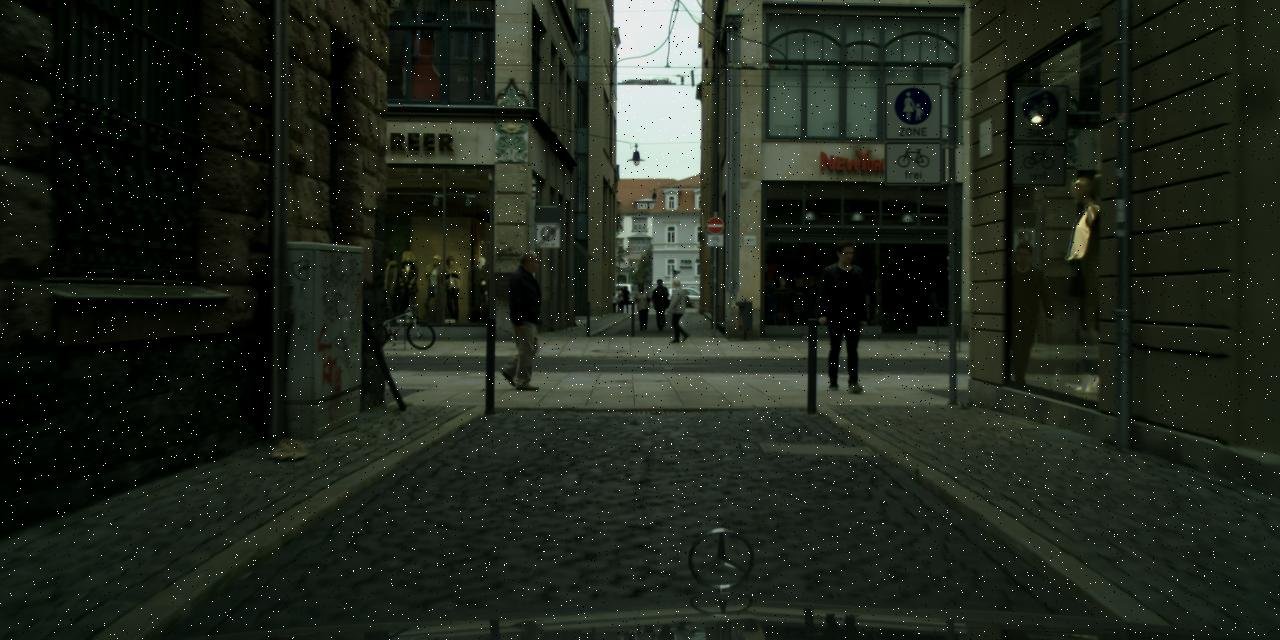ped: (813, 239, 875, 391), (495, 250, 550, 385), (665, 276, 691, 340), (650, 278, 670, 328), (632, 282, 651, 329), (610, 286, 630, 316)
